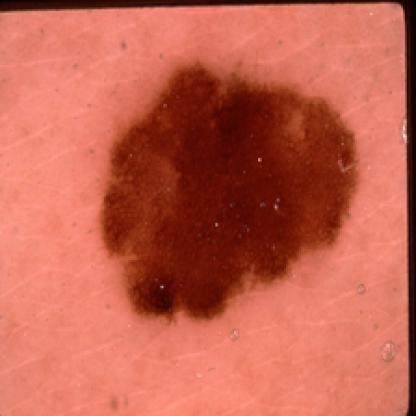malignant: (100, 74, 357, 306)
